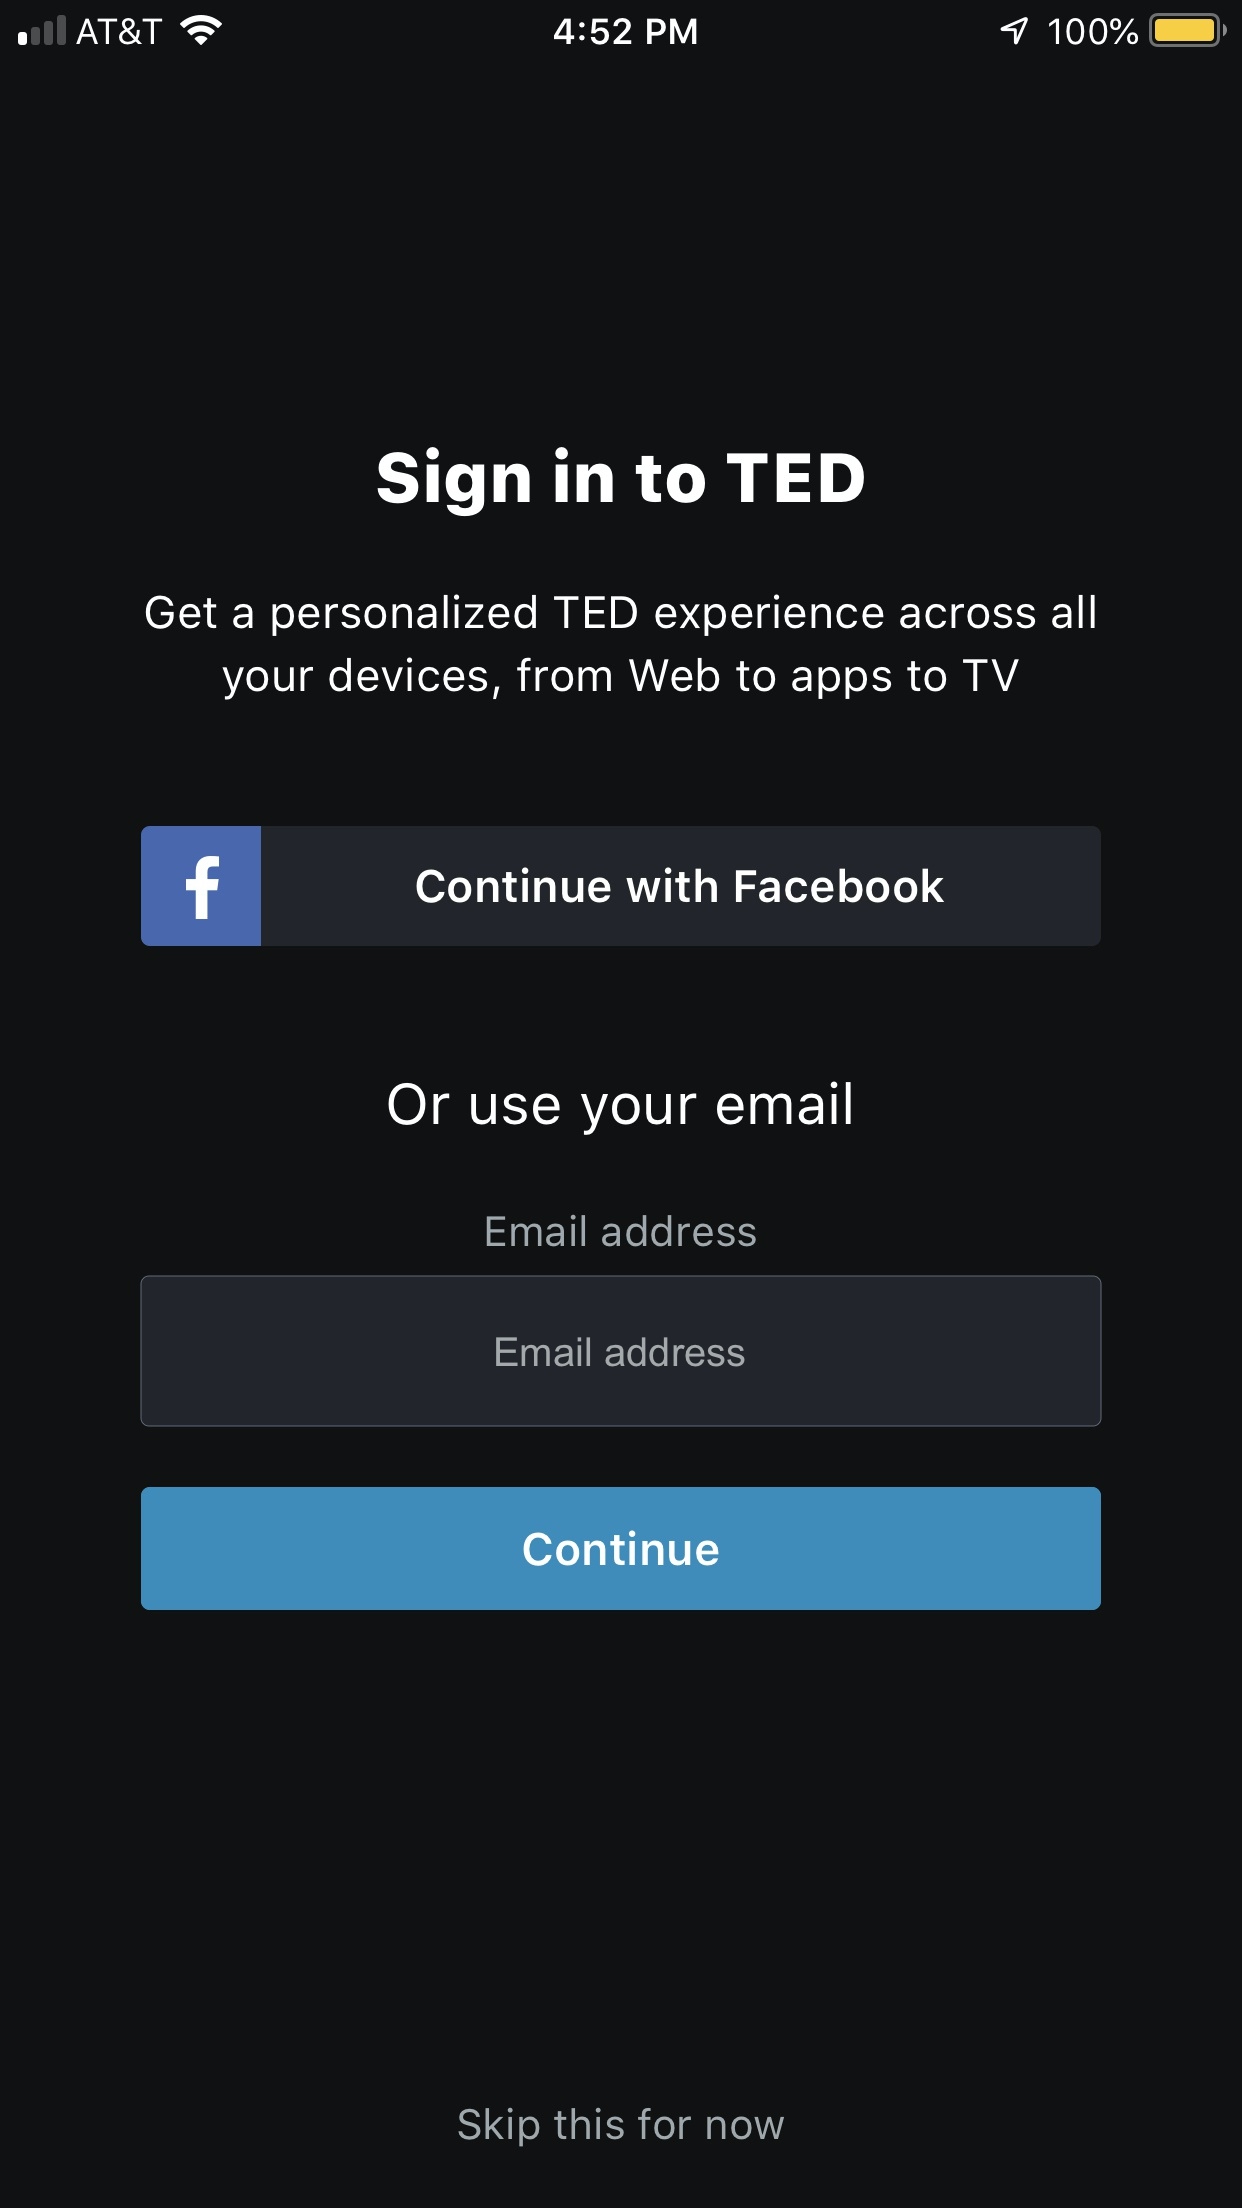EditText: (140, 1275, 1102, 1429)
Text: (146, 594, 1096, 701), (378, 447, 864, 517), (388, 1081, 851, 1136), (458, 2106, 786, 2147), (485, 1215, 757, 1248), (496, 1338, 746, 1368)
TextButton: (141, 1488, 1101, 1611), (143, 826, 1102, 946)
UpperTaskBar: (2, 2, 1242, 49)
